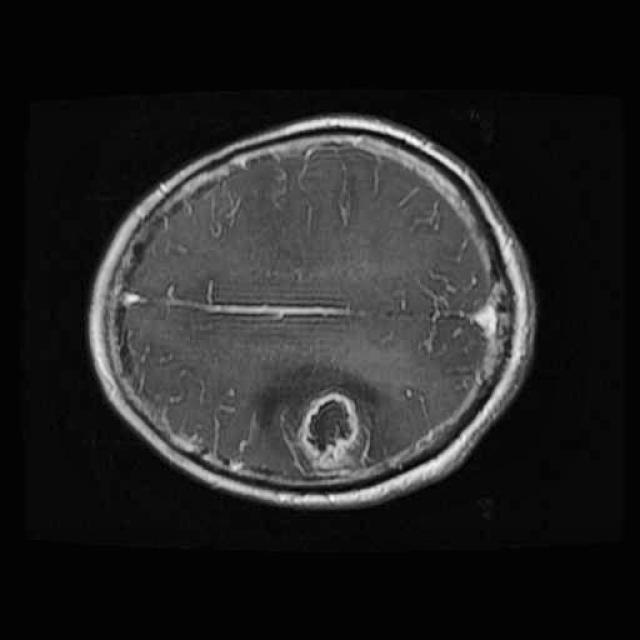Non-Tumor: (290, 379, 374, 480)
